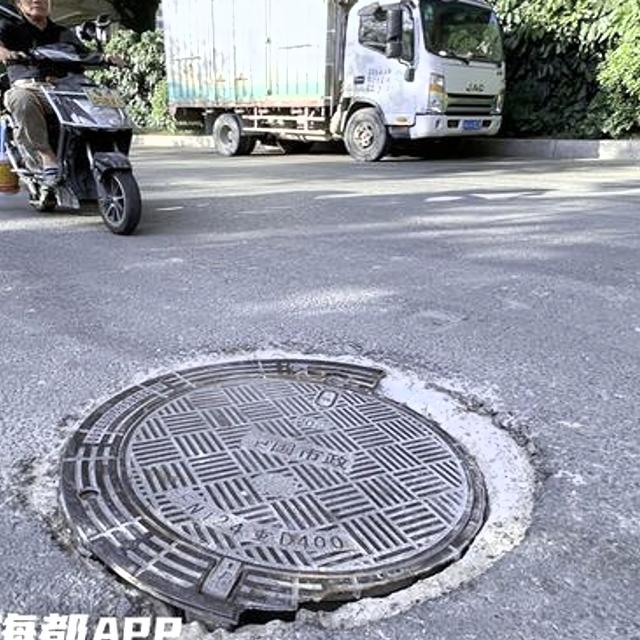circle: (0, 312, 617, 640)
